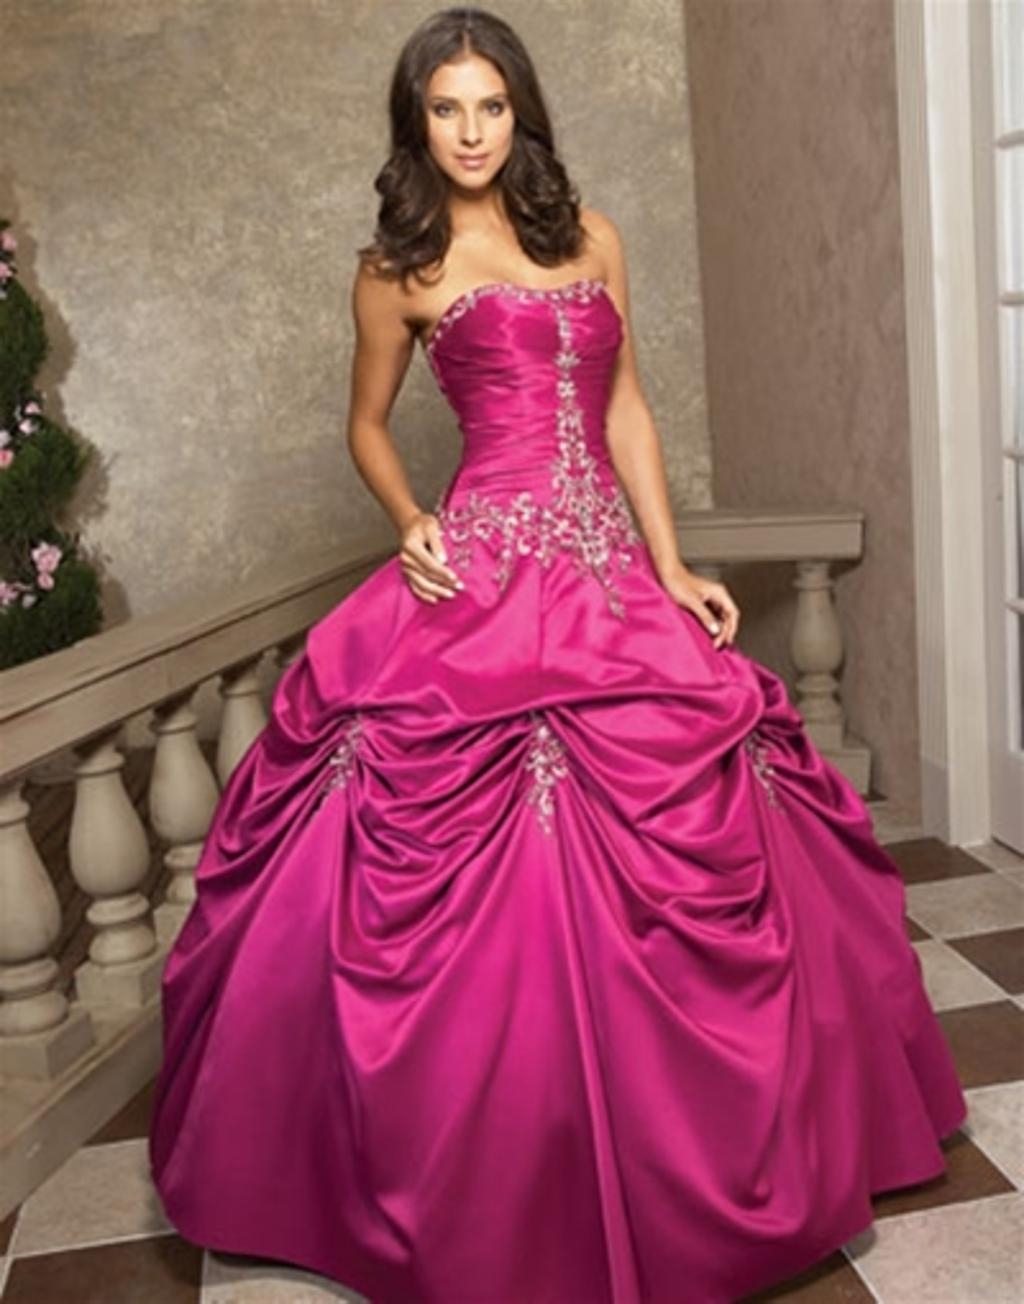face: (420, 56, 519, 191)
